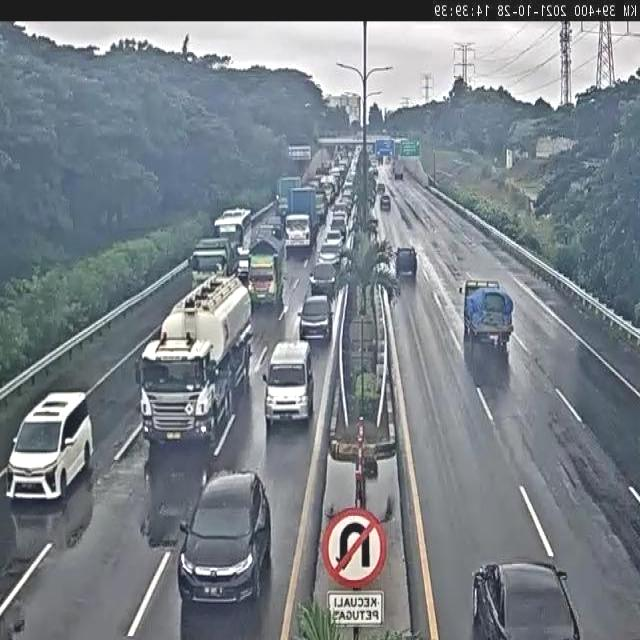Bus: (212, 207, 255, 258)
Car: (175, 468, 272, 609), (3, 386, 96, 504), (468, 556, 585, 640), (296, 293, 334, 342), (308, 260, 340, 293), (394, 245, 418, 278), (316, 241, 342, 266), (324, 227, 345, 246), (257, 222, 277, 240), (266, 213, 283, 234), (327, 215, 347, 232), (380, 194, 391, 208), (378, 181, 385, 192)
Truck: (133, 270, 254, 446), (456, 278, 515, 348), (184, 233, 237, 290), (247, 235, 285, 308), (281, 184, 319, 250), (276, 172, 302, 214), (316, 188, 328, 220)
Van: (261, 338, 317, 421)
